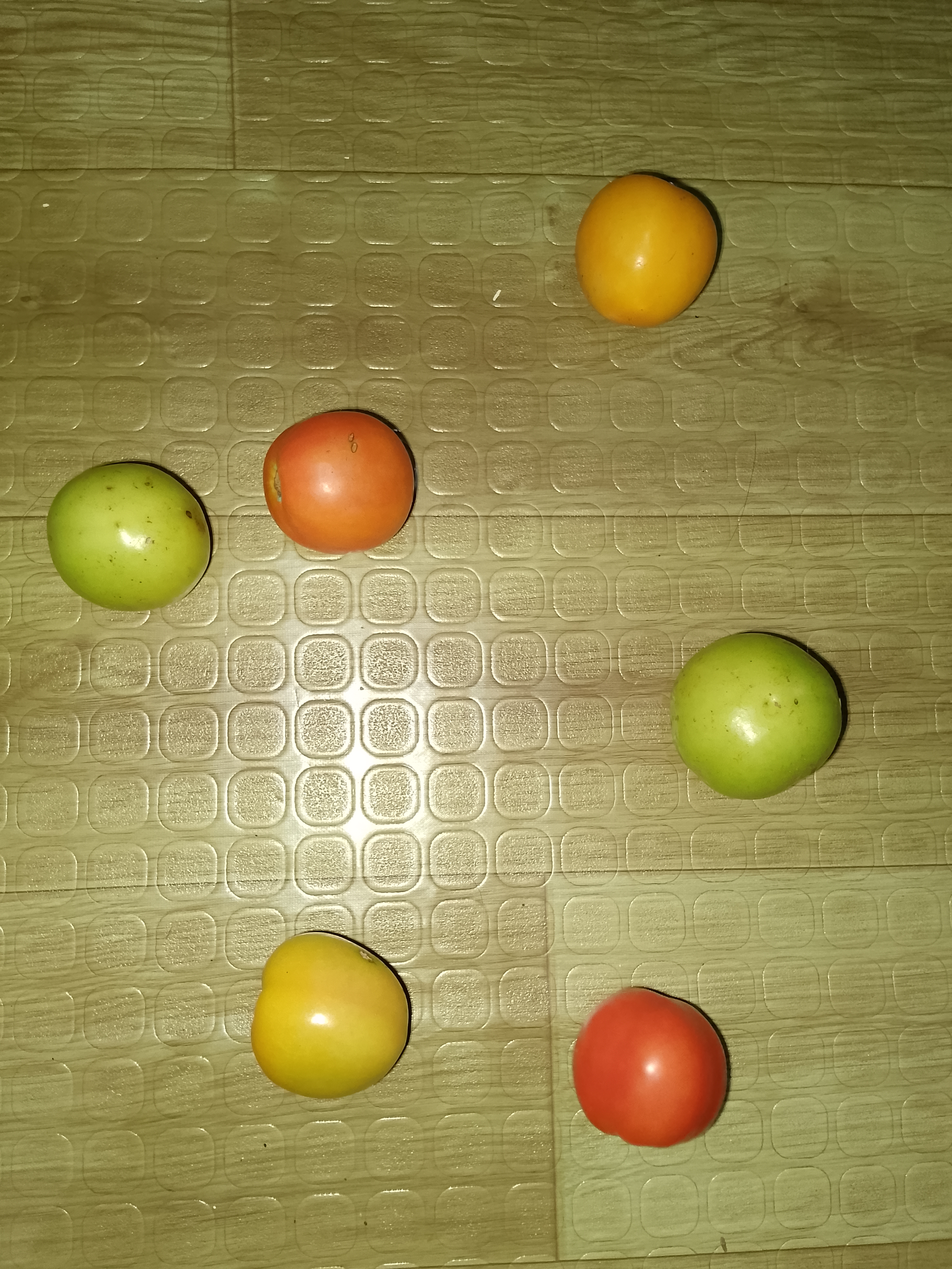Ripe: (540, 132, 766, 371), (532, 947, 758, 1181), (244, 379, 470, 592)
Unripe: (21, 410, 226, 649), (657, 589, 849, 833), (223, 906, 439, 1118)
